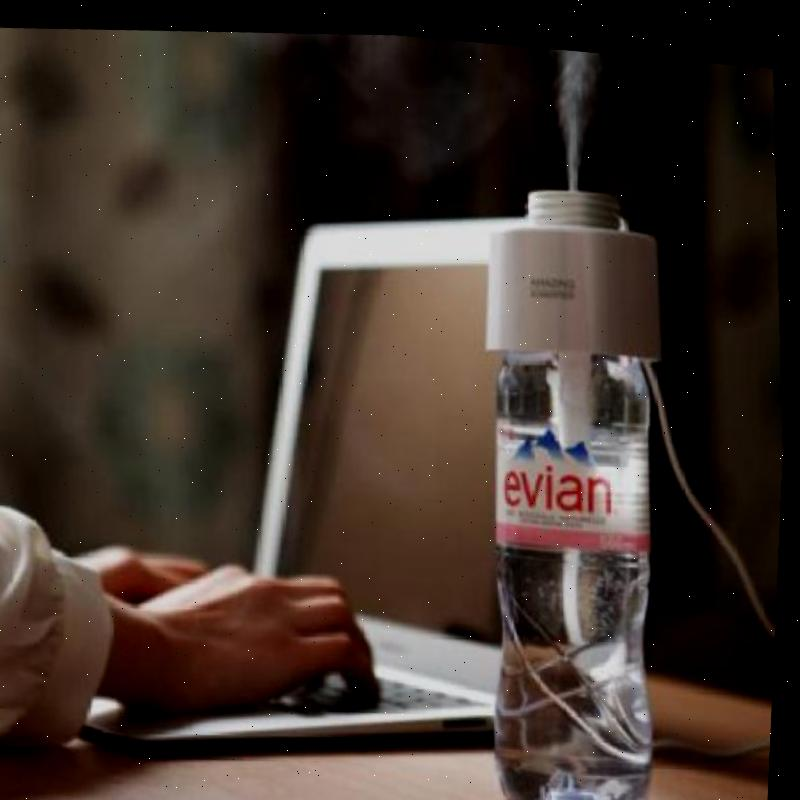botella: (469, 325, 692, 800)
